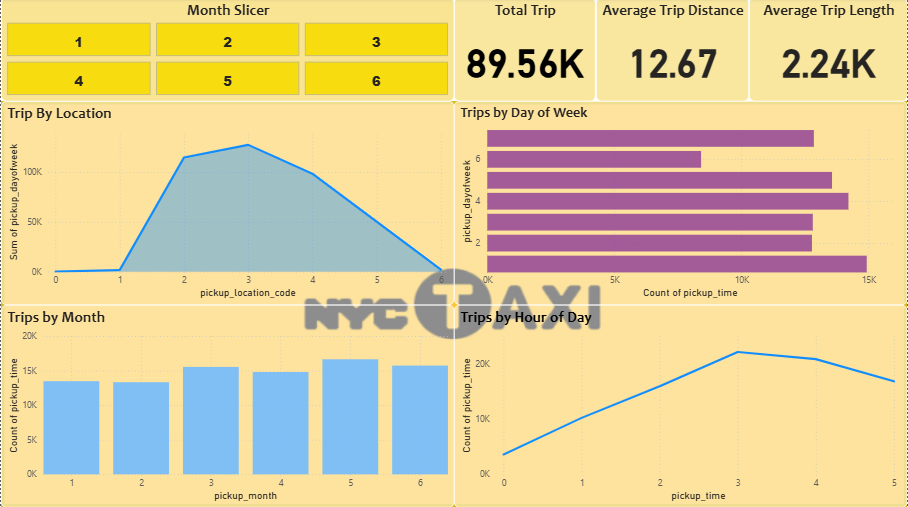

The dashboard page shown, as its layout file describes it:
{"tool":"powerbi","page":{"name":"Trip Patters","canvas":[1280,720],"ordinal":0},"visuals":[{"type":"image","box":[0,146,1280,574],"z":0},{"type":"card","title":"Total Trip","fields":{"Values":["CountNonNull(nyc_taxis.pickup_time)"]},"box":[640,0,200,146],"z":1000},{"type":"card","title":"Average Trip Distance","fields":{"Values":["Avg(nyc_taxis.trip_distance)"]},"box":[840,0,216,146],"z":2000},{"type":"card","title":"Average Trip Length","fields":{"Values":["Avg(nyc_taxis.trip_length)"]},"box":[1056,0,224,146],"z":3000},{"type":"barChart","title":"Trips by Day of Week","fields":{"Y":["CountNonNull(nyc_taxis.pickup_time)"],"Category":["nyc_taxis.pickup_dayofweek"]},"box":[640,146,640,288],"z":4000},{"type":"lineChart","title":"Trips by Hour of Day","fields":{"Category":["nyc_taxis.pickup_time"],"Y":["CountNonNull(nyc_taxis.pickup_time)"]},"box":[640,434,640,286],"z":5000},{"type":"clusteredColumnChart","title":"Trips by Month","fields":{"Y":["CountNonNull(nyc_taxis.pickup_time)"],"Category":["nyc_taxis.pickup_month"]},"box":[0,434,640,286],"z":6000},{"type":"advancedSlicerVisual","title":"Month Slicer","fields":{"Values":["nyc_taxis.pickup_month"]},"box":[0,0,640,146],"z":7000},{"type":"areaChart","title":"Trip By Location","fields":{"Category":["nyc_taxis.pickup_location_code"],"Y":["Sum(nyc_taxis.pickup_dayofweek)"]},"box":[0,146,640,288],"z":8000}]}

Visuals, with their boxes in screenshot pixels (x1, y1, x2, y2), scaled from the page's 1280x720 canvas onto the 908x507 screenshot:
image: (left=0, top=103, right=907, bottom=506)
"Total Trip" card: (left=454, top=0, right=596, bottom=103)
"Average Trip Distance" card: (left=596, top=0, right=749, bottom=103)
"Average Trip Length" card: (left=749, top=0, right=907, bottom=103)
"Trips by Day of Week" barChart: (left=454, top=103, right=907, bottom=306)
"Trips by Hour of Day" lineChart: (left=454, top=306, right=907, bottom=506)
"Trips by Month" clusteredColumnChart: (left=0, top=306, right=454, bottom=506)
"Month Slicer" advancedSlicerVisual: (left=0, top=0, right=454, bottom=103)
"Trip By Location" areaChart: (left=0, top=103, right=454, bottom=306)
